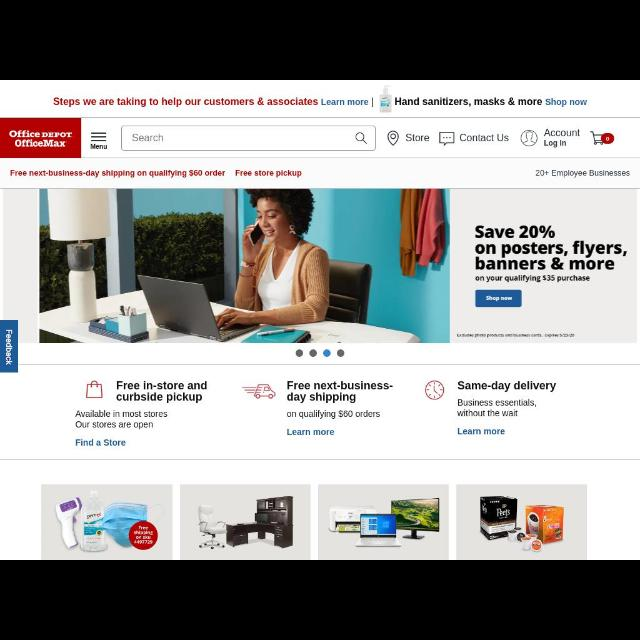icon: (242, 384, 276, 400), (420, 384, 444, 401), (83, 382, 107, 398), (87, 130, 111, 144), (517, 131, 537, 147), (591, 130, 611, 146), (386, 128, 400, 148), (437, 132, 455, 146), (352, 132, 368, 146)
iframe: (39, 484, 587, 556), (2, 81, 640, 117)
image: (41, 187, 449, 343), (316, 485, 448, 559), (179, 484, 307, 560), (41, 489, 173, 559), (458, 486, 586, 554), (375, 87, 393, 113)
input: (122, 127, 376, 149)
pageindicator: (292, 346, 348, 358)
text: (472, 224, 628, 284), (54, 96, 368, 108), (9, 168, 224, 178), (286, 382, 394, 401), (116, 382, 210, 402), (458, 378, 556, 396), (76, 410, 168, 428), (394, 98, 588, 106), (458, 399, 538, 418), (8, 130, 72, 146), (534, 168, 630, 178), (456, 333, 576, 339), (234, 168, 302, 178), (288, 412, 380, 418), (545, 130, 579, 146), (458, 427, 507, 437), (459, 133, 508, 143), (130, 130, 164, 144), (73, 439, 127, 447), (288, 428, 334, 436), (6, 328, 14, 368), (404, 134, 431, 142), (90, 144, 108, 150)
textbutton: (474, 291, 524, 307)
toolbar: (1, 119, 639, 157)
